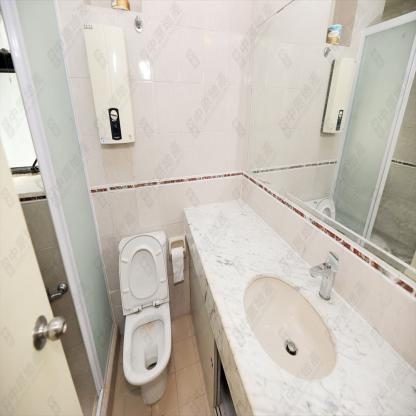Faucet: (310, 248, 346, 305)
Toilet: (117, 228, 172, 396)
Toilet Sink: (247, 276, 332, 385)
Water Heater: (83, 22, 135, 144)
